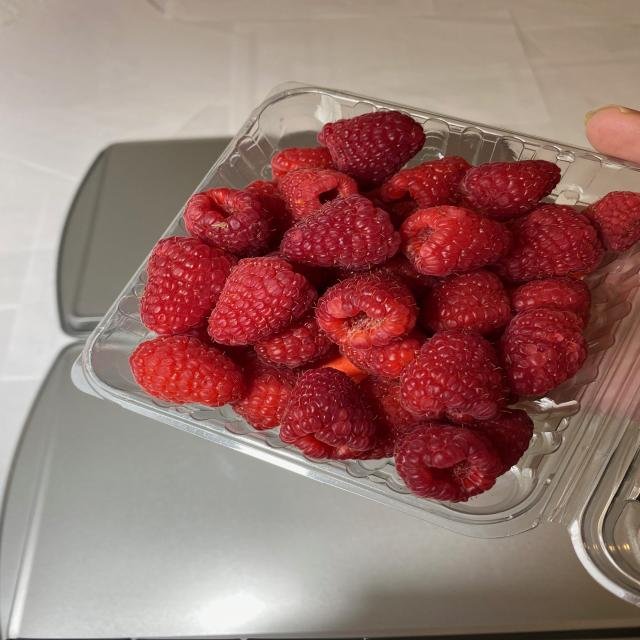raspberries: (147, 163, 617, 442)
